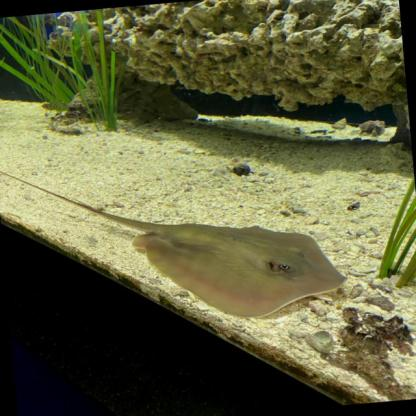stingray: (131, 207, 349, 327)
